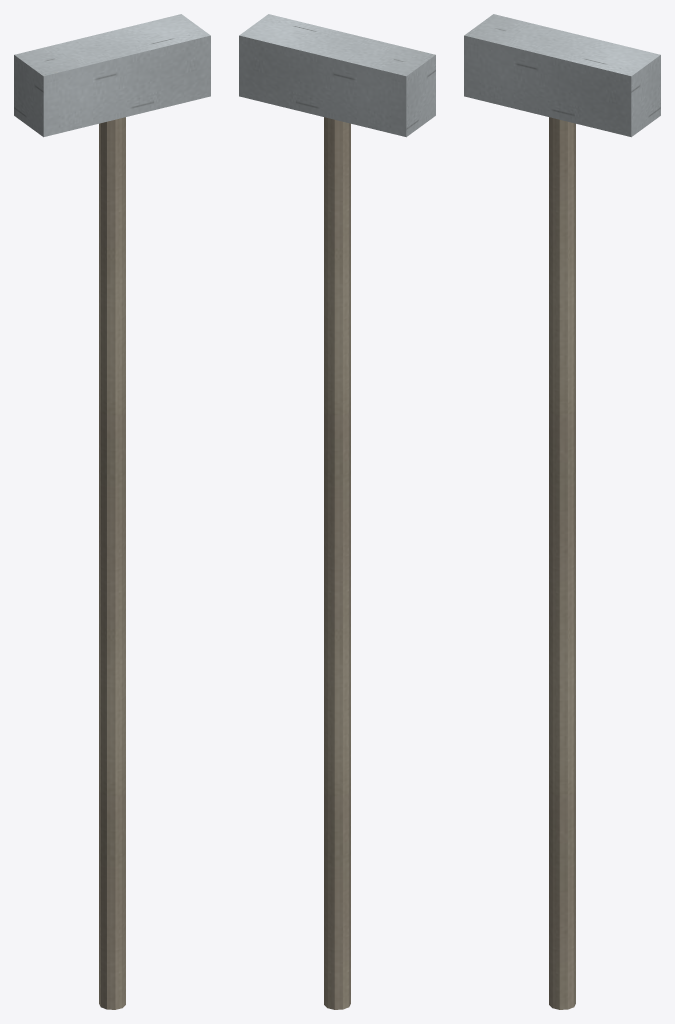
Rendered from mop_v4.glb.
3 renders of one model, left to right at view 1: azimuth 30°, elevation 25°; view 2: azimuth 150°, elevation 25°; view 3: azimuth 330°, elevation 25°, orthographic.
Parts seen in each view (by area): view 1: Variant_mop_4; view 2: Variant_mop_4; view 3: Variant_mop_4.
Part boxes in pixels (left/top/right/bottom): Variant_mop_4: left=14, top=14, right=210, bottom=1009; Variant_mop_4: left=239, top=14, right=435, bottom=1009; Variant_mop_4: left=464, top=14, right=660, bottom=1009.
Bounding box in the file's own units: 0.23 × 1.26 × 0.07.
Materials: 2 (2 with a texture image).
